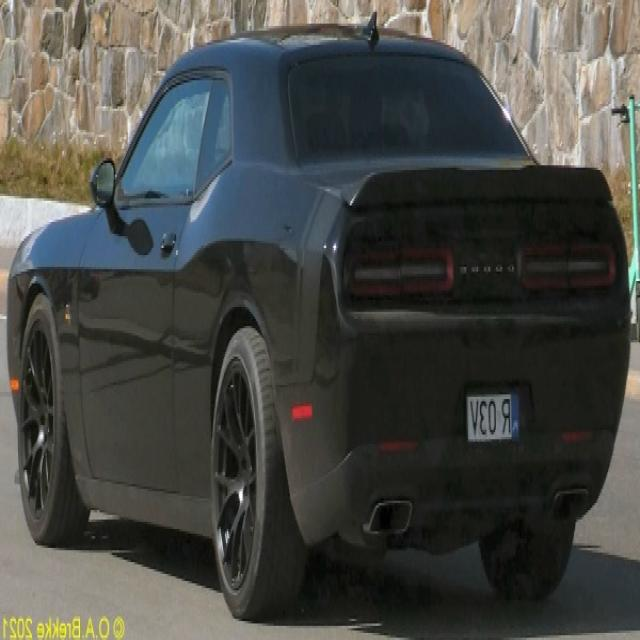pl_license_plate: (468, 389, 521, 442)
